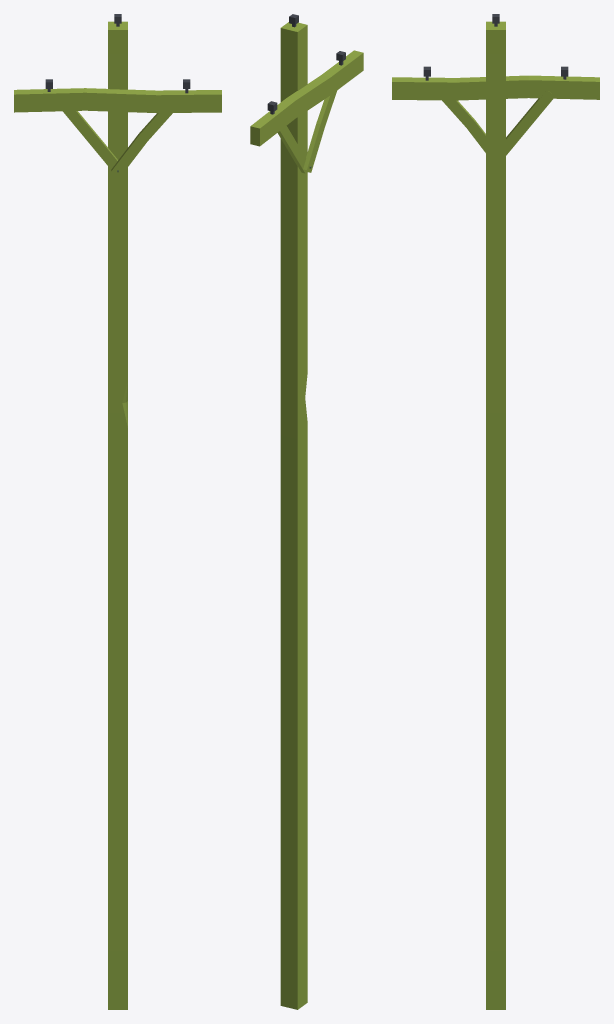
The model's file is PowerLines_02.fbx.
3 renders of one model, left to right at view 1: azimuth 90°, elevation 25°; view 2: azimuth 150°, elevation 25°; view 3: azimuth 270°, elevation 25°, orthographic.
Visible parts, largest first — view 1: PowerLines_02; view 2: PowerLines_02; view 3: PowerLines_02.
Boxes of the visible parts, left/top/right/bottom form: PowerLines_02: left=14, top=14, right=221, bottom=1009; PowerLines_02: left=250, top=14, right=363, bottom=1009; PowerLines_02: left=392, top=14, right=599, bottom=1009.
Size of the model in its own units: 0.1529 by 5.51 by 1.05.
